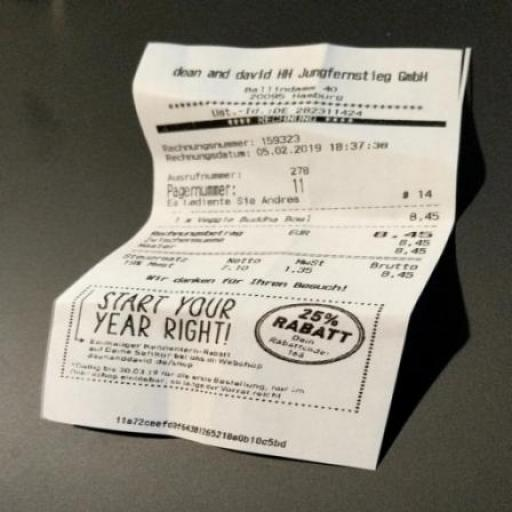paper: (23, 0, 511, 504)
